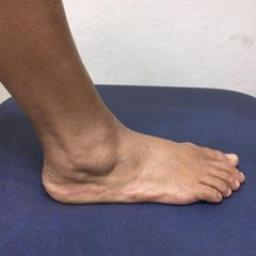Lateral View -Right Foot-: (17, 100, 251, 216)
